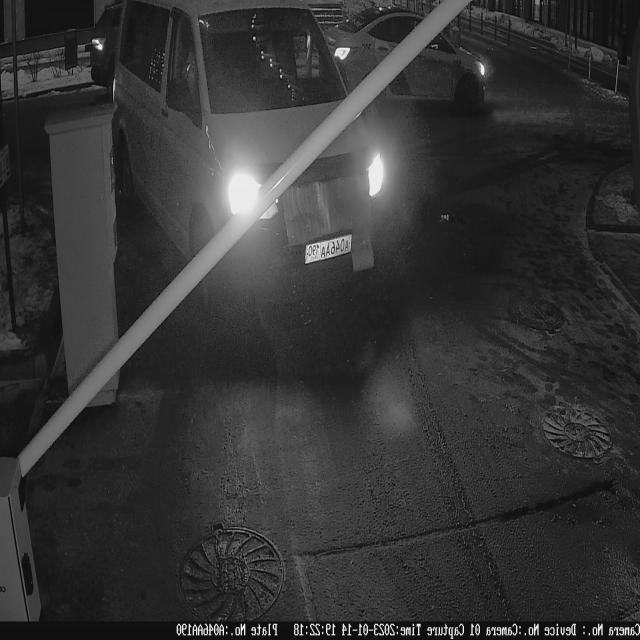car-plate-numbers: (301, 225, 355, 272)
